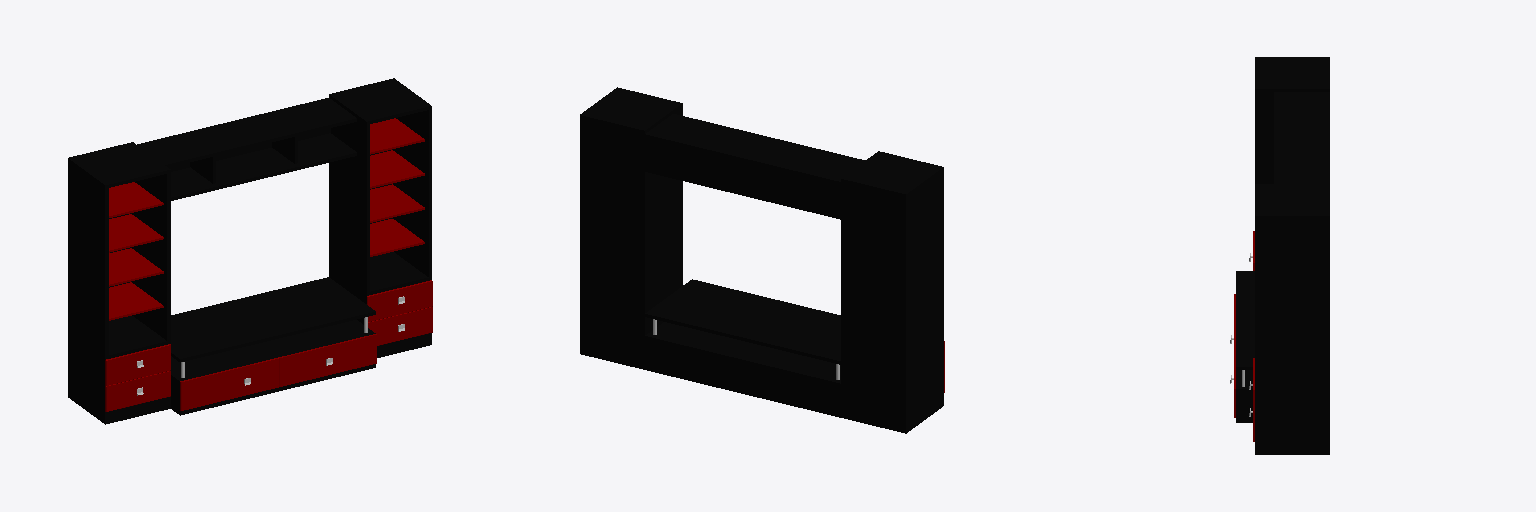
The model's file is bookcase.obj.
The picture shows the model from 3 angles: view 1: azimuth 30°, elevation 25°; view 2: azimuth 150°, elevation 25°; view 3: azimuth 270°, elevation 25°; orthographic projection.
Parts seen in each view (by area): view 1: Bookcase_01_Black, Shelf_02_Black, Shelfs_Red, Table_02_Black, Bookcase_01_Red, Table_01_Red, Table_01_Black; view 2: Bookcase_01_Black, Shelf_02_Black, Table_01_Black, Table_02_Black; view 3: Bookcase_01_Black, Shelf_02_Black, Table_02_Black, Table_01_Black.
Boxes of the visible parts, <box> form: Bookcase_01_Black: <box>68,78,431,424</box>; Shelf_02_Black: <box>137,98,356,200</box>; Shelfs_Red: <box>109,118,424,320</box>; Table_02_Black: <box>171,277,375,362</box>; Bookcase_01_Red: <box>105,280,432,411</box>; Table_01_Red: <box>180,334,376,410</box>; Table_01_Black: <box>171,320,375,415</box>; Bookcase_01_Black: <box>580,87,943,433</box>; Shelf_02_Black: <box>645,114,865,219</box>; Table_01_Black: <box>645,322,840,417</box>; Table_02_Black: <box>645,279,840,364</box>; Bookcase_01_Black: <box>1255,57,1329,454</box>; Shelf_02_Black: <box>1274,92,1329,183</box>; Table_02_Black: <box>1236,271,1254,369</box>; Table_01_Black: <box>1236,370,1252,422</box>.
Size of the model in its own units: 118 by 82.68 by 31.41.